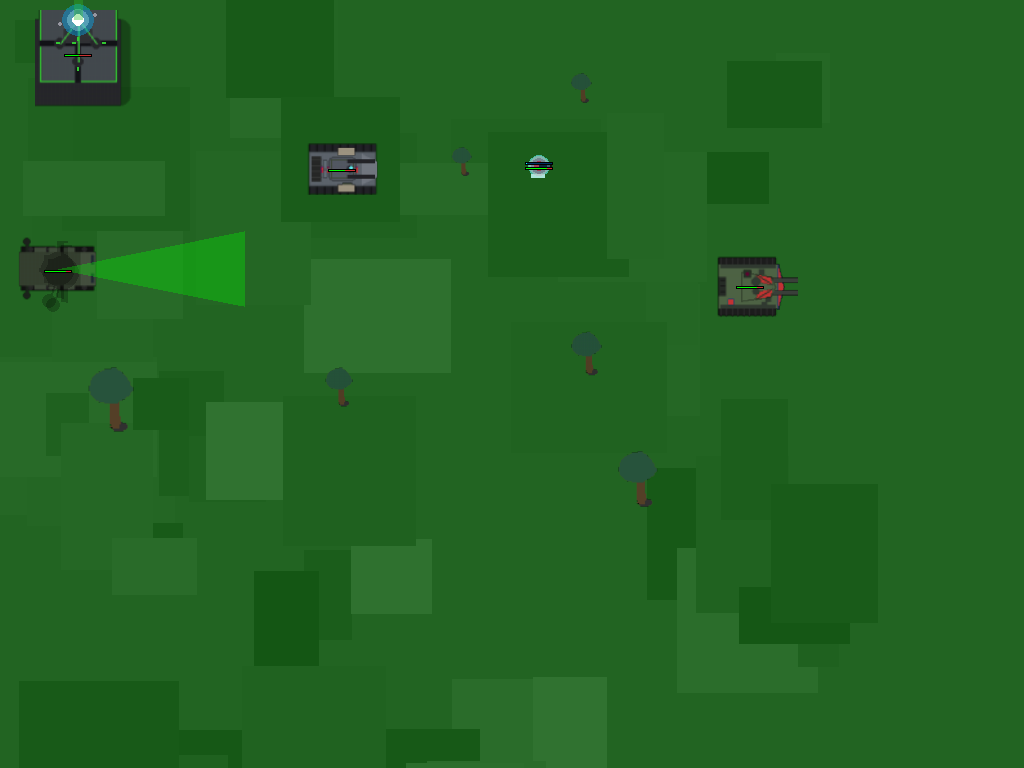Bunker: (522, 148, 556, 182)
Lake: (29, 4, 126, 101)
M1A2_rus: (312, 138, 371, 197)
MiningRig: (718, 253, 783, 318)
RadarBuilding: (13, 225, 101, 313)
